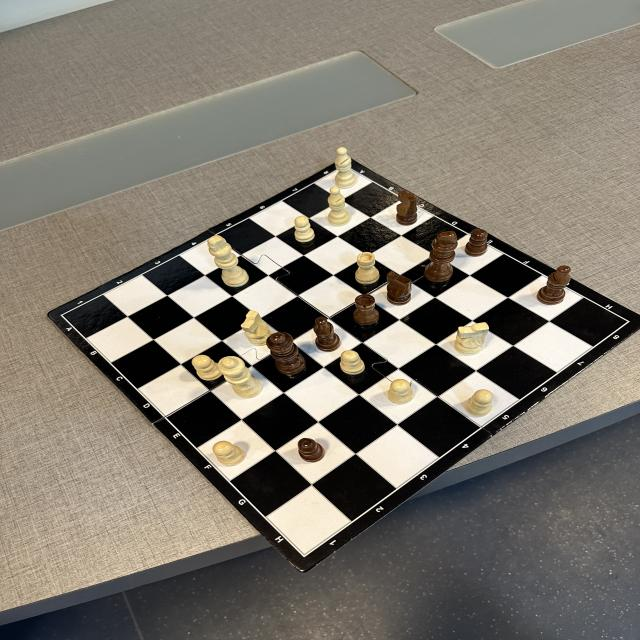Black-Bishop: (537, 265, 571, 305), (313, 317, 341, 352)
Black-King: (425, 231, 458, 282)
Black-Knight: (386, 272, 412, 306), (396, 190, 417, 226)
Black-Pawn: (298, 438, 325, 462), (465, 229, 487, 256)
Black-Queen: (267, 332, 305, 375)
Black-Rook: (354, 294, 379, 325)
White-Bishop: (335, 147, 357, 189), (328, 187, 350, 226)
White-King: (208, 235, 249, 288)
White-Knight: (455, 322, 489, 355), (241, 310, 271, 346)
White-Pawn: (213, 440, 245, 466), (192, 355, 222, 381), (466, 389, 493, 416), (388, 379, 414, 404), (340, 350, 364, 375), (294, 215, 315, 242)
White-Queen: (218, 356, 262, 398)
White-Rook: (356, 252, 380, 284)
